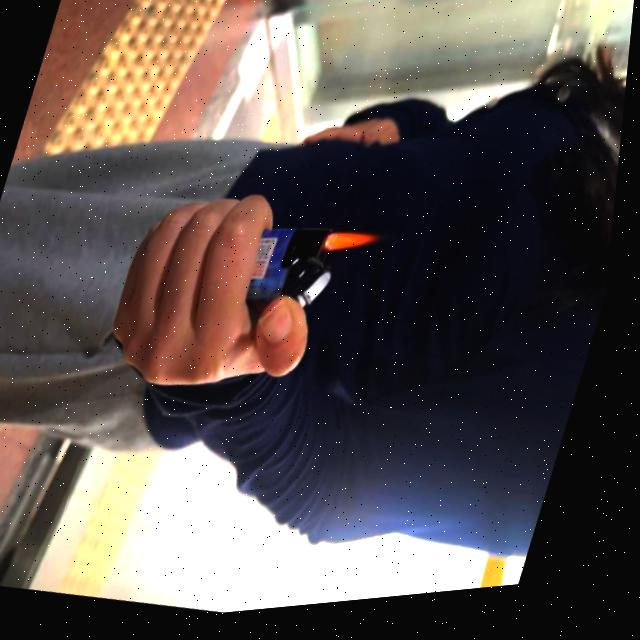Fire: (329, 231, 380, 268)
